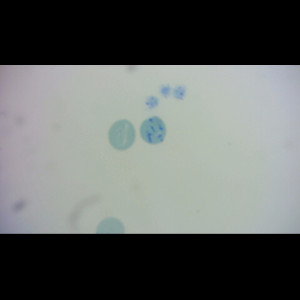aggregate reticulocyte: (138, 115, 168, 145)
erythrocyte: (107, 118, 138, 151)
